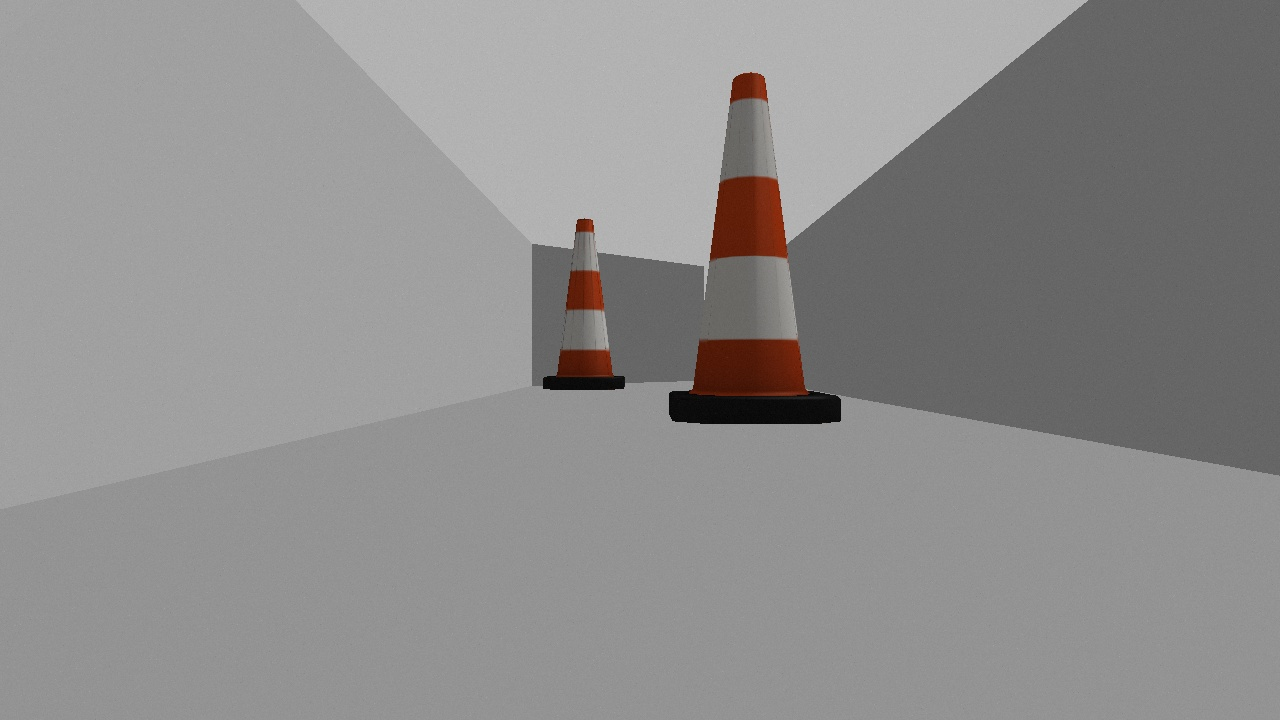barricade: (659, 68, 847, 431), (539, 215, 630, 399)
